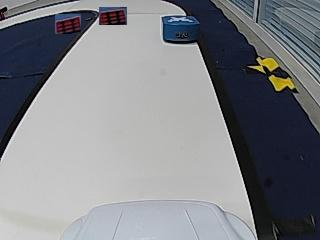prop: (162, 16, 201, 44)
